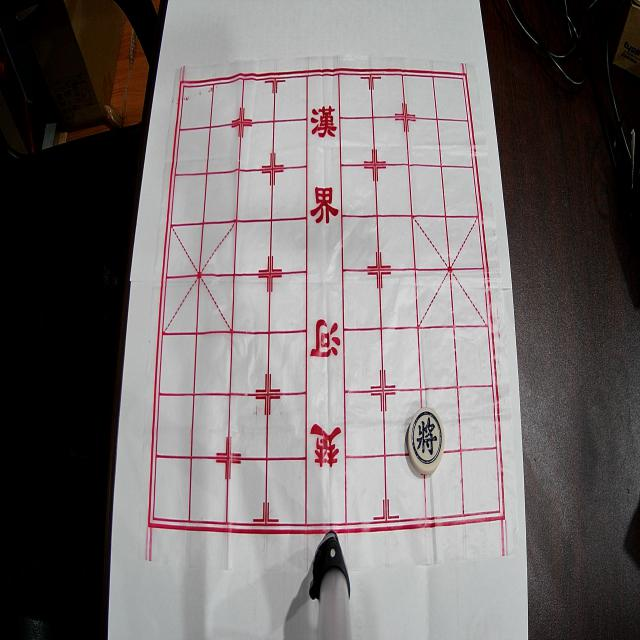black-general: (408, 407, 445, 474)
